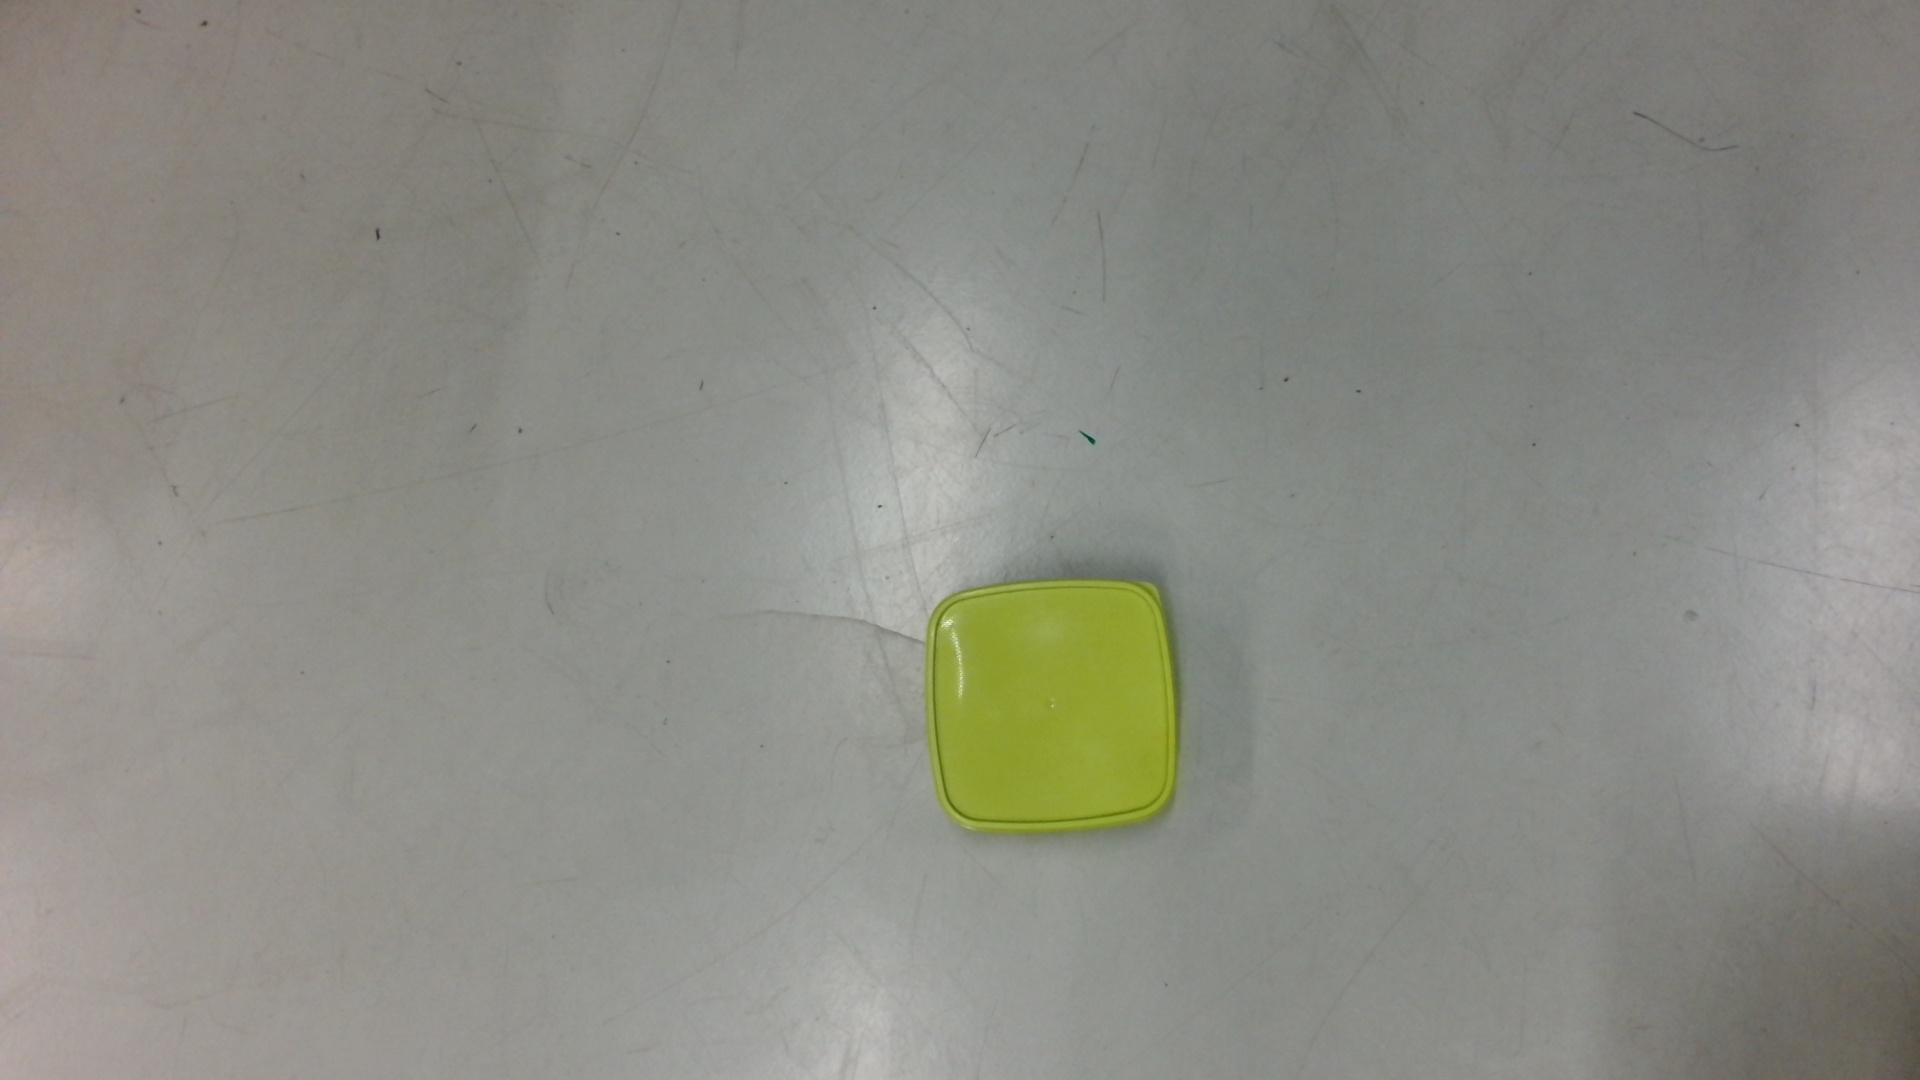Box: (923, 570, 1188, 840)
